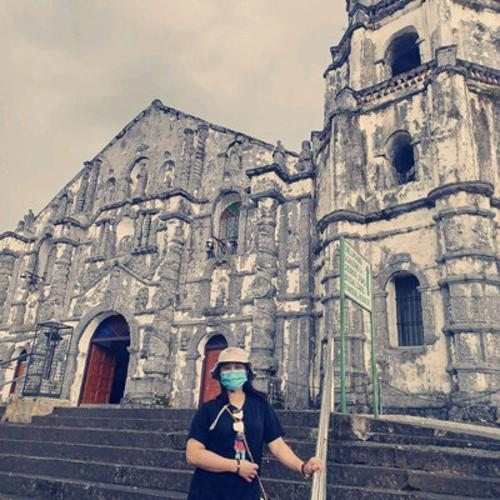Daraga Church: (1, 4, 500, 421)
